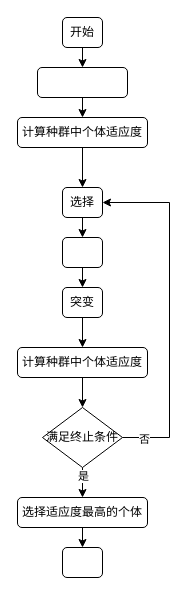
The diagram is 195 pixels wide and 595 high, and some of its shapes have lost their labels. The shapes that lost their labels are listed below. From the top down, each one's centre as x and y in pixels, then its label:
(x=82, y=82): 创建初始种群
(x=82, y=252): 交叉
(x=82, y=562): 结束
